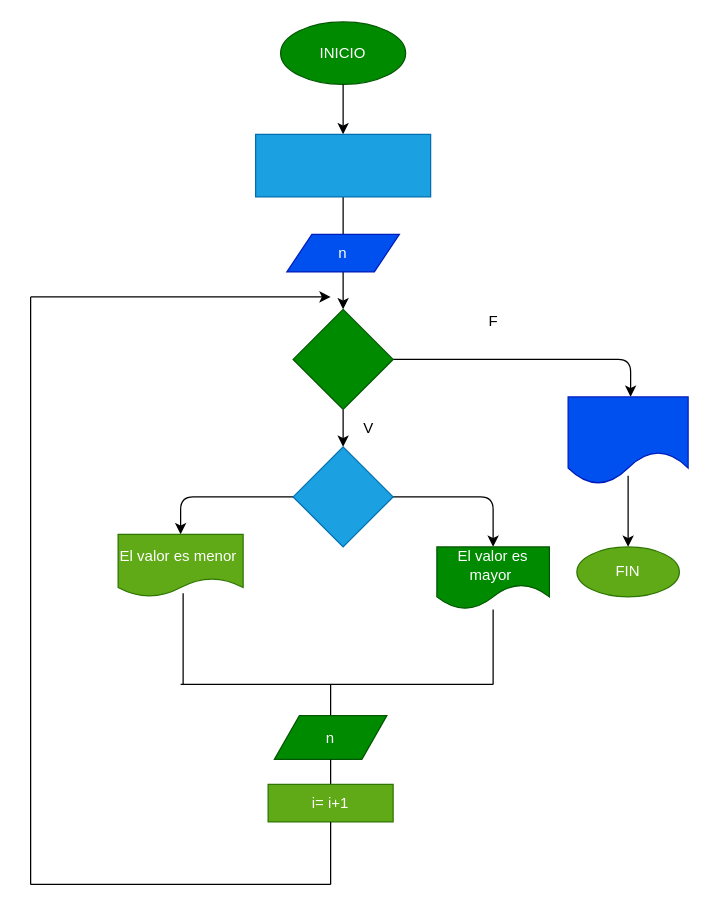
The diagram is 710 pixels wide and 908 high, and some of its shapes have lost their labels. The shapes that lost their labels are listed below. From the top down, each one's box as (x1, y1, x2, y2) in pixels, then its label:
(254, 133, 431, 197): maq = random.randint(1,,1000) i = 1
(292, 308, 393, 409): n!=maq
(567, 396, 688, 484): Adivinaste
(292, 446, 393, 547): n<maq
